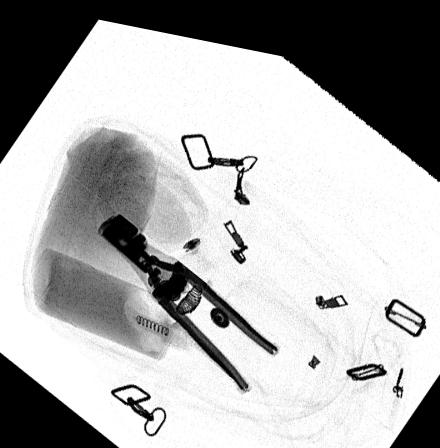Pliers: (93, 208, 278, 383)
